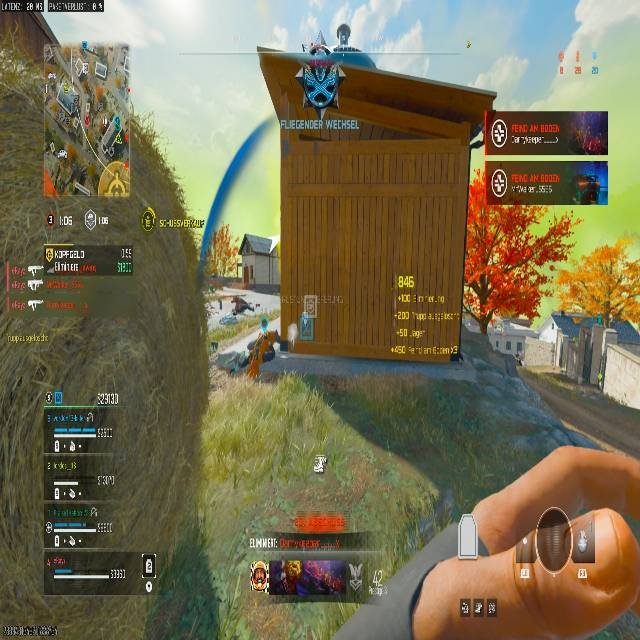player: (300, 36, 345, 121), (515, 351, 523, 366)
